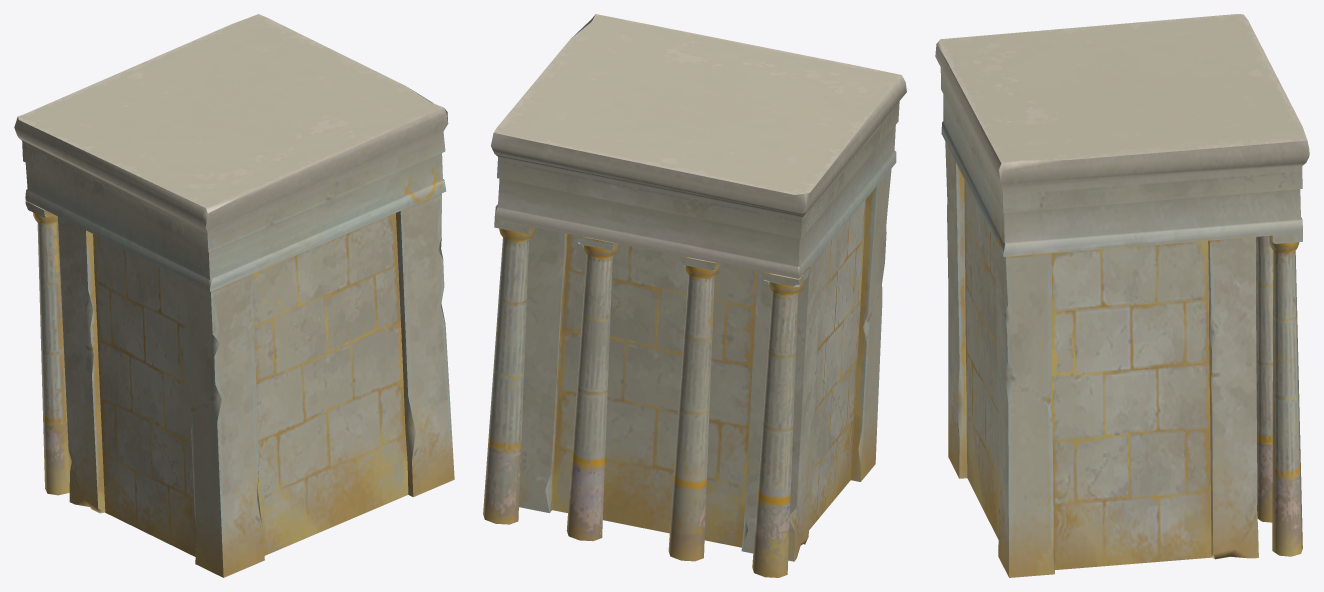
File: Story_0-8_kaipian_building_d01.fbx
The picture shows the model from 3 angles, left to right: view 1: azimuth 30°, elevation 25°; view 2: azimuth 150°, elevation 25°; view 3: azimuth 270°, elevation 25°; orthographic projection. The views are drawn at different scales.
Parts seen in each view (by area): view 1: Story_0_8_kaipian_building_d01; view 2: Story_0_8_kaipian_building_d01; view 3: Story_0_8_kaipian_building_d01.
Boxes of the visible parts, box(x1,y1,x2,y2) form: Story_0_8_kaipian_building_d01: box(14, 14, 454, 577); Story_0_8_kaipian_building_d01: box(483, 14, 906, 577); Story_0_8_kaipian_building_d01: box(935, 14, 1309, 577).
Bounding box in the file's own units: 657 × 747 × 599.
